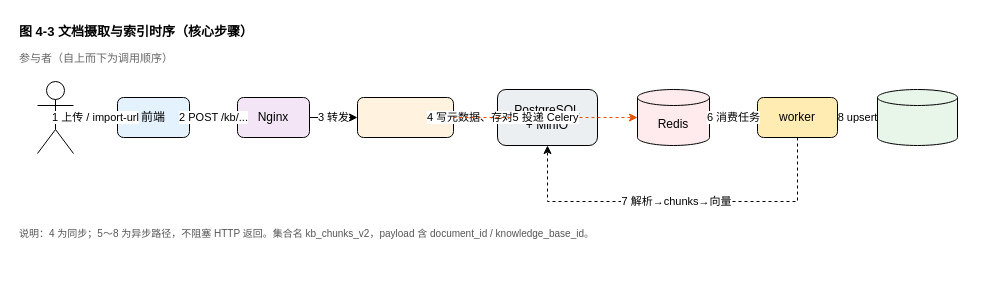
Image size: 994x282. Some labels were removed from this diagram. Each missing label, with the box of its shape:
kb-service: (356, 96, 454, 138)
Qdrant: (876, 88, 958, 146)
用户: (36, 80, 74, 154)
